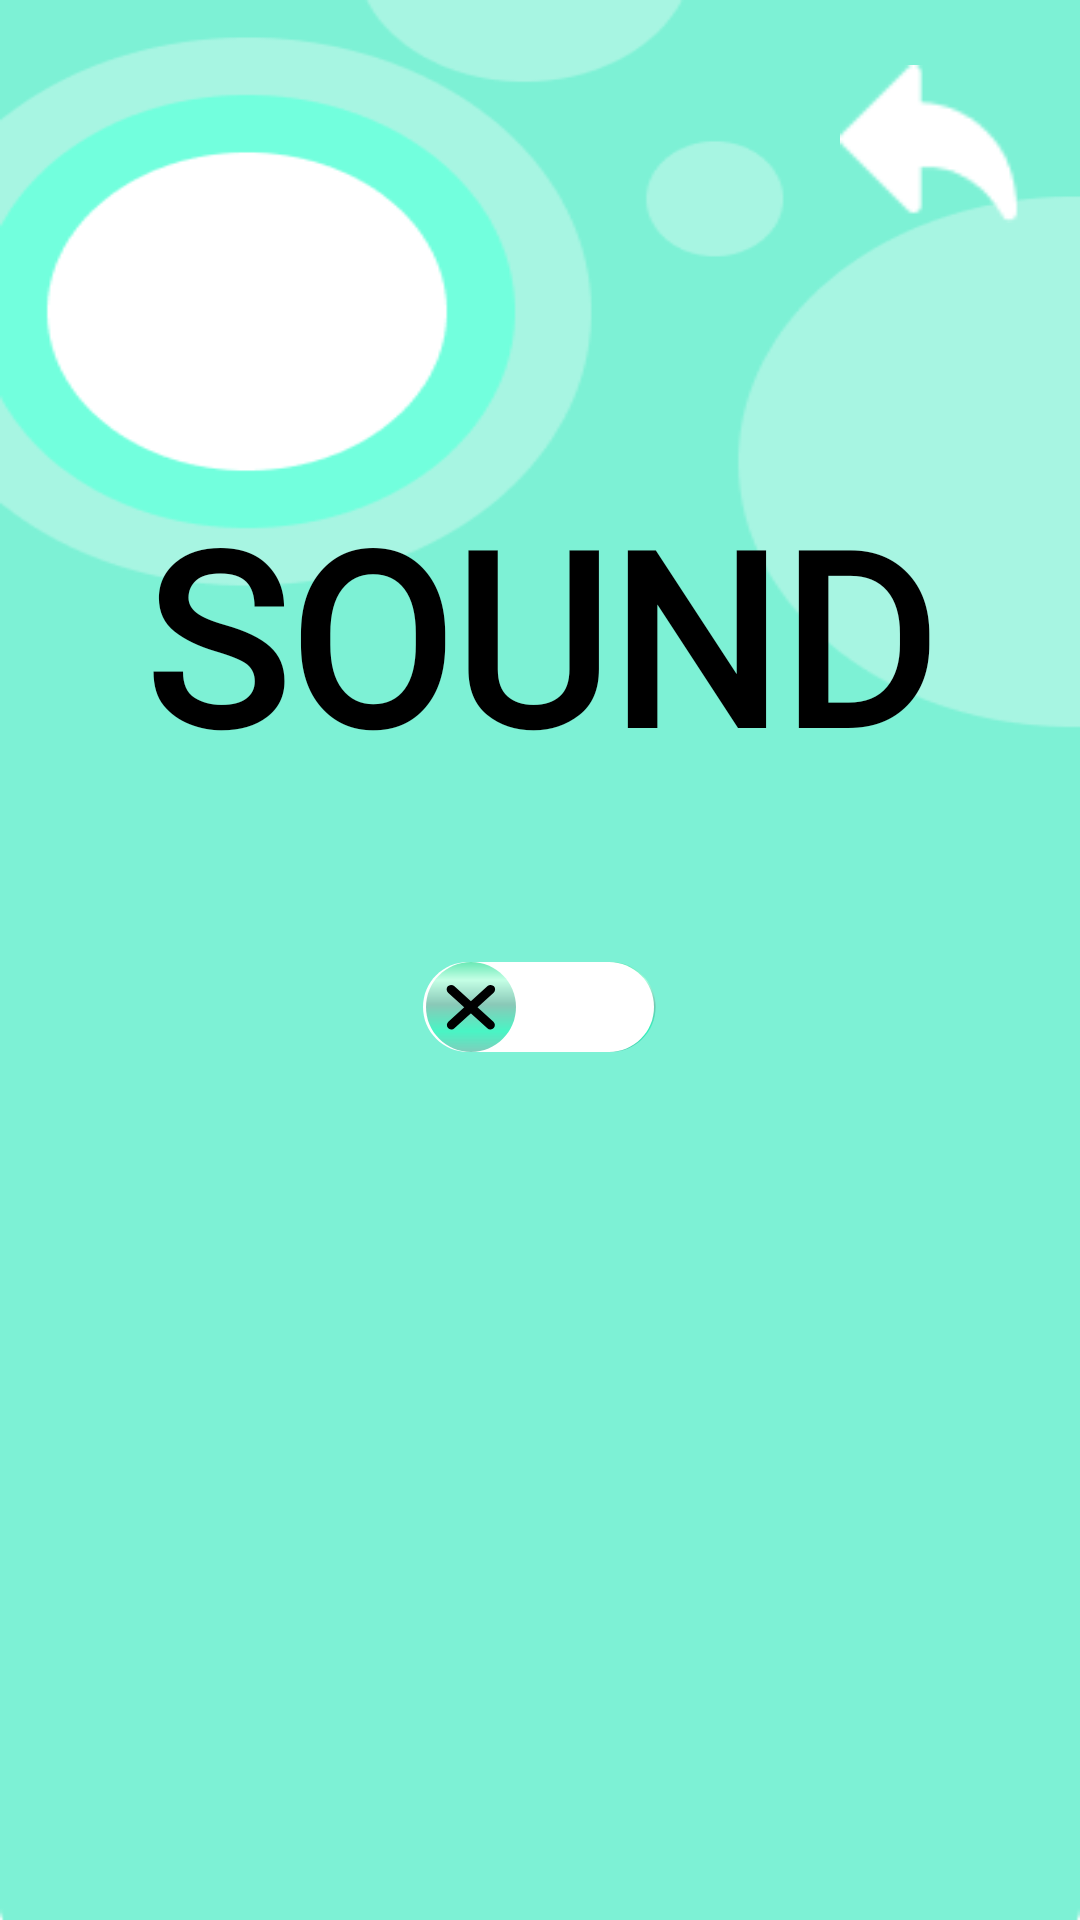

Locate icon controls on the screen. Image size 1080w x 1920h, boxes as (x1, y1, x2, y2).
back: (840, 65, 1020, 234)
